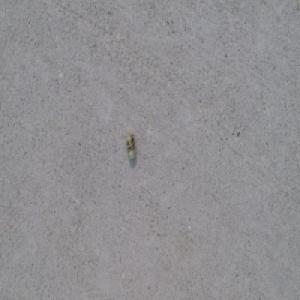BoltNutSet: (126, 133, 136, 160)
